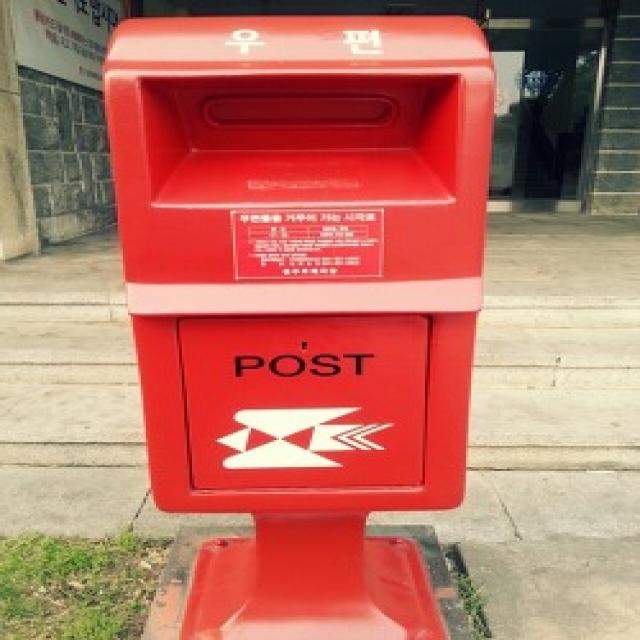Post Box: (94, 13, 499, 640)
